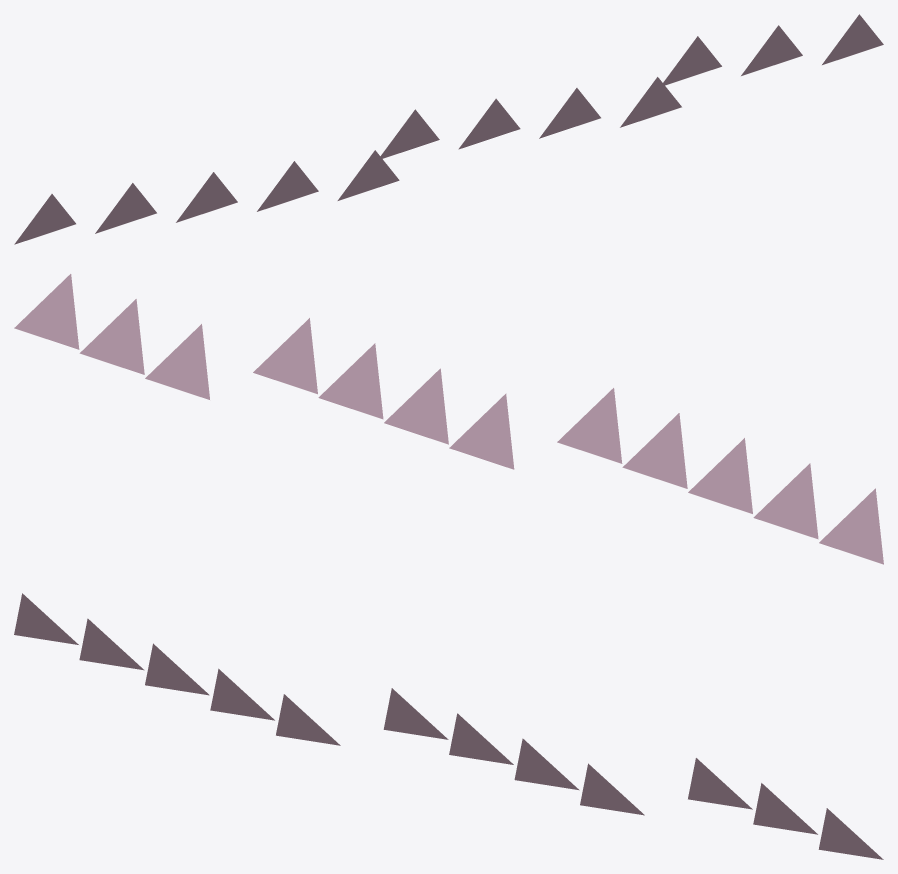
The model's file is prop_bulk_gen_0136_lod1.gltf.
3 renders of one model, top to bottom at view 1: azimuth 30°, elevation 25°; view 2: azimuth 150°, elevation 25°; view 3: azimuth 330°, elevation 25°, orthographic. The views are drawn at different scales.
Parts seen in each view (by area): view 1: prop_bulk_gen_0136_lod1; view 2: prop_bulk_gen_0136_lod1; view 3: prop_bulk_gen_0136_lod1.
Part boxes in pixels (box(x1,y1,x2,y2)): prop_bulk_gen_0136_lod1: box(14, 14, 883, 244); prop_bulk_gen_0136_lod1: box(14, 274, 883, 564); prop_bulk_gen_0136_lod1: box(14, 593, 883, 859).
Size of the model in its own units: 0.653 by 0.0416 by 0.068.
